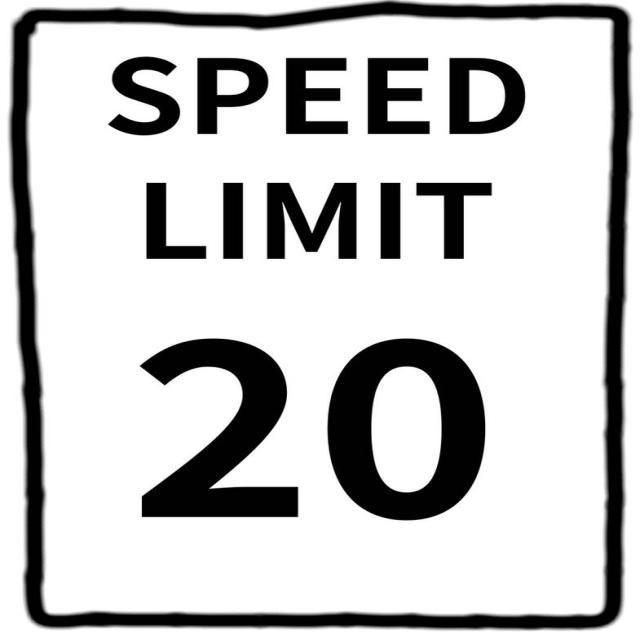speedLimit20: (6, 1, 630, 640)
